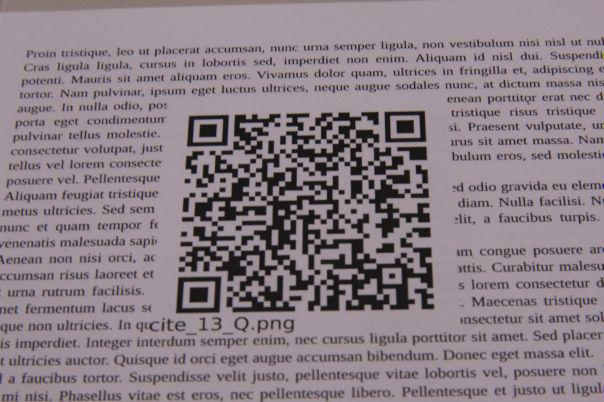Finder pattern: (171, 274, 224, 315), (381, 109, 430, 145), (185, 112, 230, 149)
